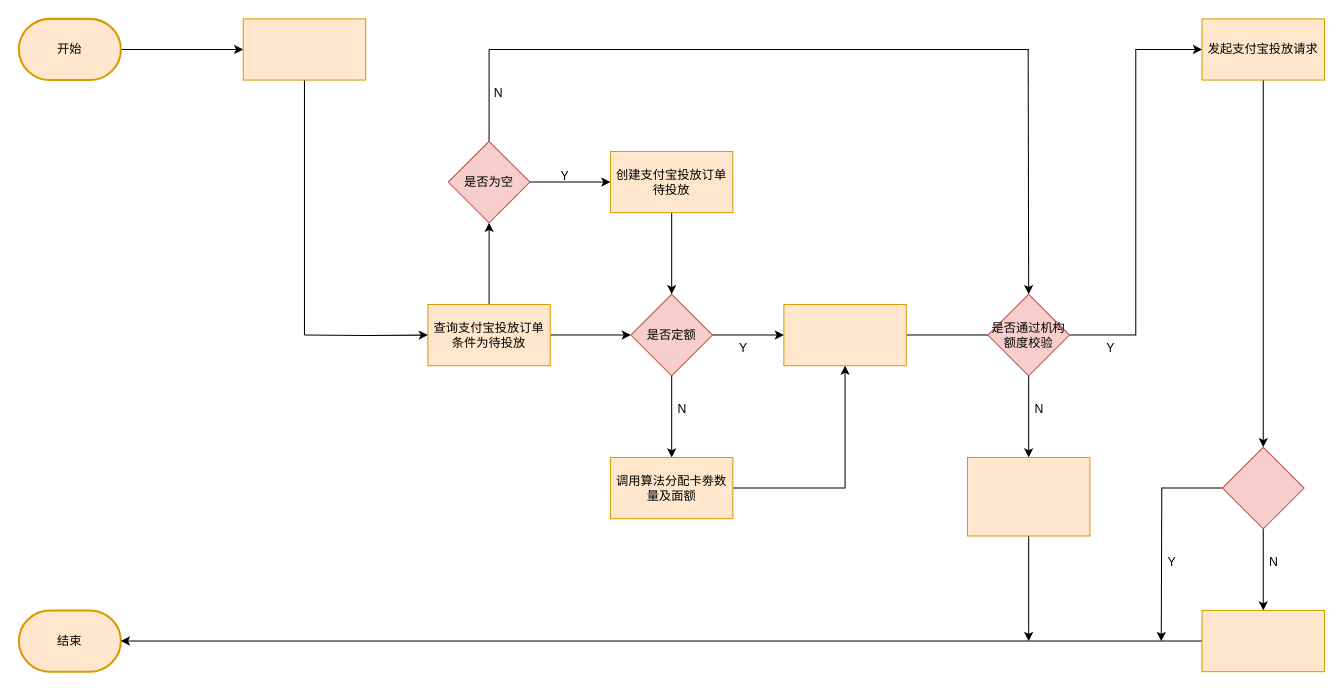
Image size: 1342x690. Some labels were removed from this diagram. Here are the shapes that lost their labels. From the top down, the centre of each, then its label:
At pixel 304 49: "加锁".
At pixel 844 334: "创建卡劵明细订单".
At pixel 1028 496: "修改订单状态 原始订单失败、未垫资， 业务订单失败".
At pixel 1262 487: "是否成功".
At pixel 1262 640: "根据指定的失败类型判断是否用银行卡代付并发起".
